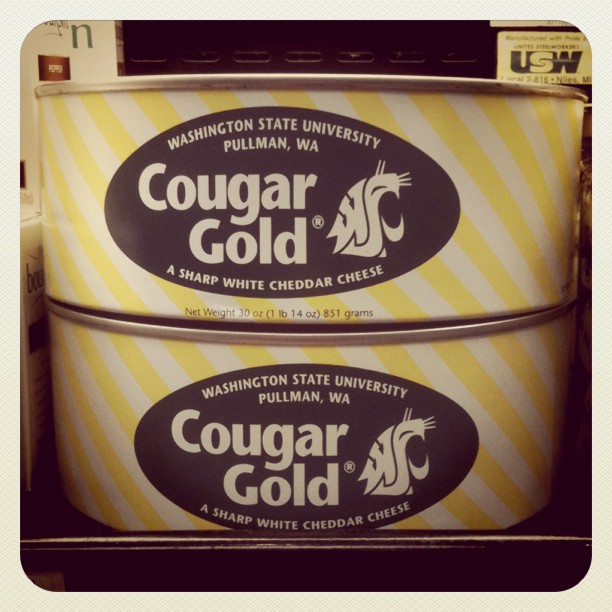cheese: (53, 64, 553, 534)
